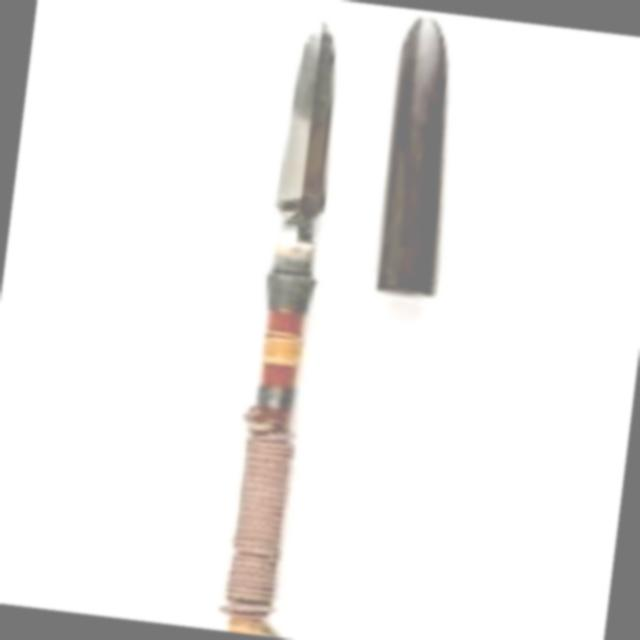spear: (217, 1, 375, 628)
